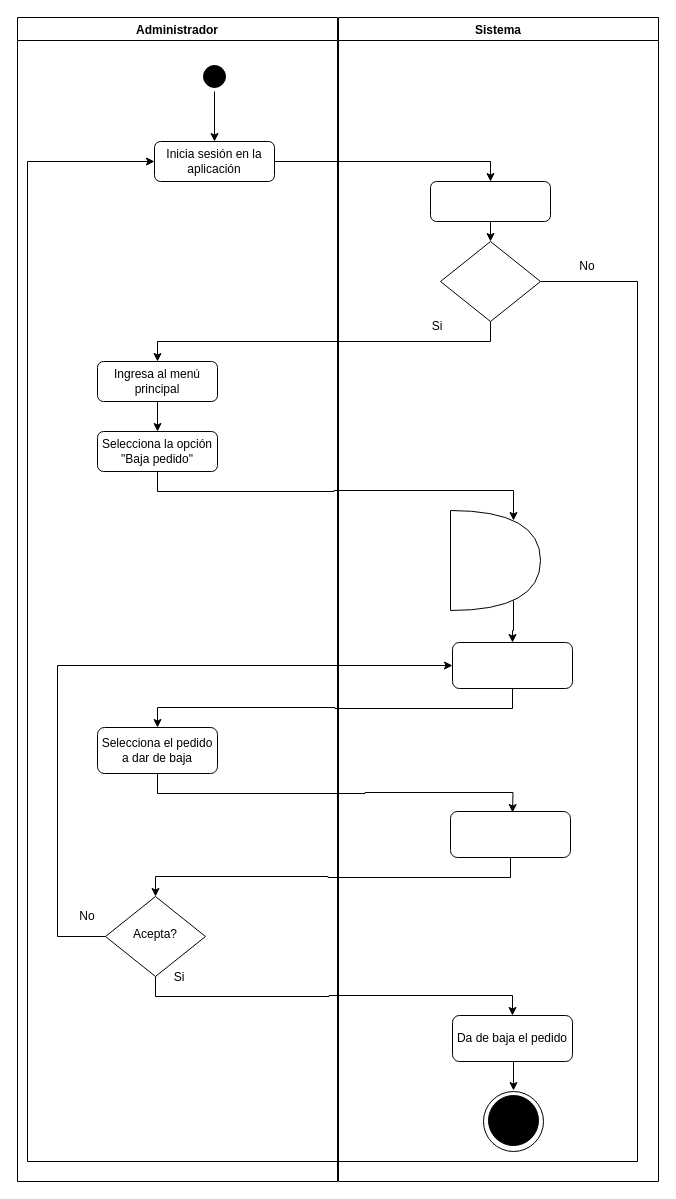
This 676x1199 diagram has some shape labels left out. Here are the shapes that lost their labels. From the top down, the centre of each, then its label:
pixel 490 201: Controla los datos
pixel 490 281: Control ok?
pixel 495 560: Recupera la información de todos los pedidos
pixel 512 665: Muestra todos los pedidos
pixel 510 834: Muestra mensaje de confirmación
